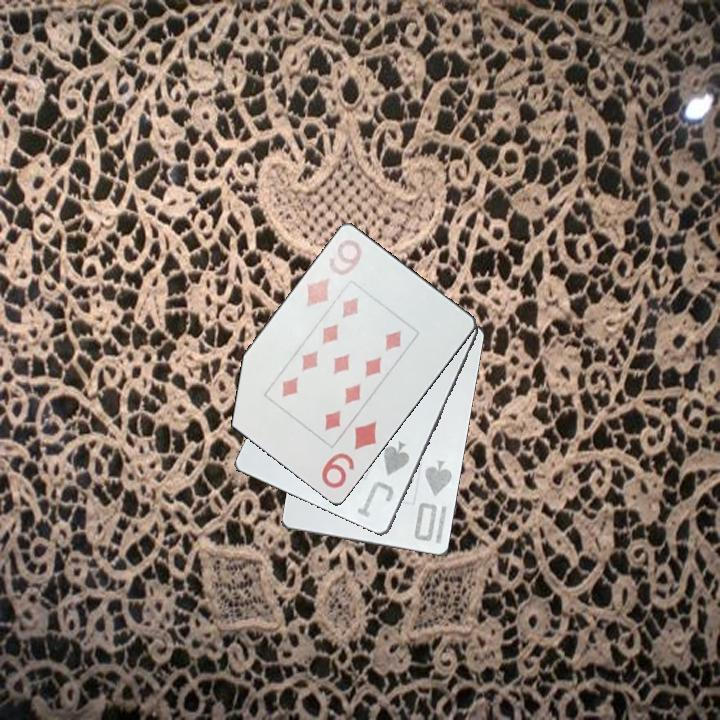9d: (301, 233, 365, 310), (316, 417, 381, 492)
Js: (354, 438, 413, 523)
Ts: (411, 458, 455, 545)
